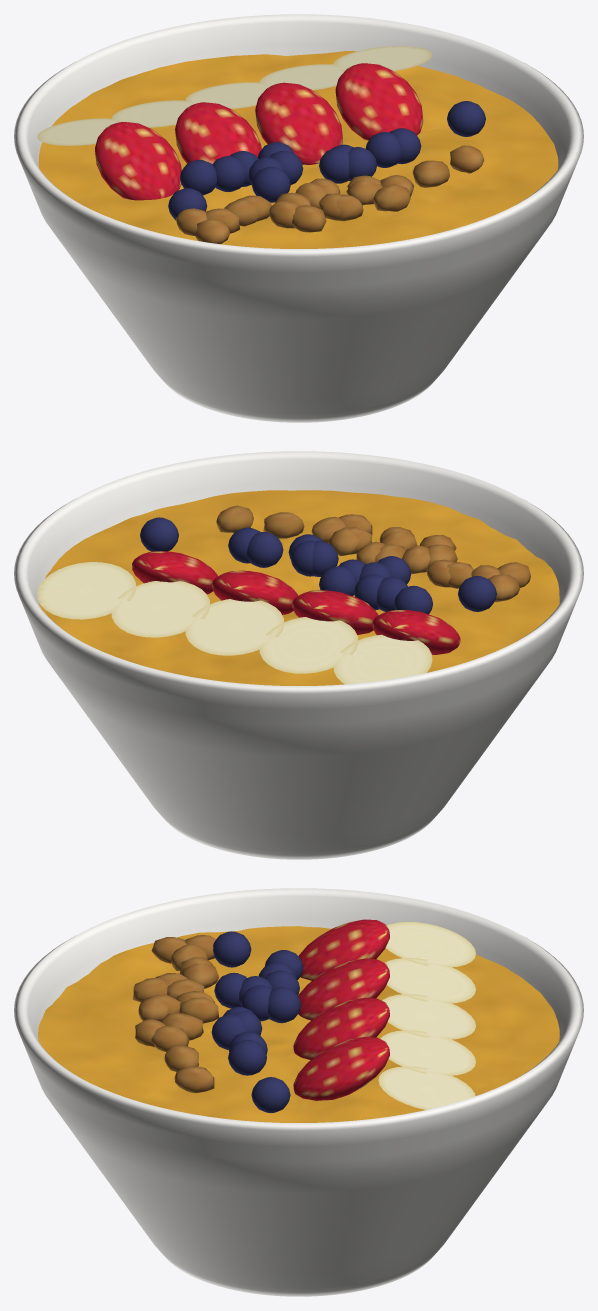
Rendered from mango-passion-bowl.glb.
3 renders of one model, top to bottom at view 1: azimuth 30°, elevation 25°; view 2: azimuth 150°, elevation 25°; view 3: azimuth 270°, elevation 25°, orthographic.
Parts seen in each view (by area): view 1: ceramic, satin, gloss, matte; view 2: ceramic, satin, gloss, matte; view 3: ceramic, satin, gloss, matte.
Boxes of the visible parts, x1,y1,x2,y2 form: ceramic: [14, 14, 583, 422]; satin: [37, 46, 558, 248]; gloss: [95, 63, 423, 200]; matte: [176, 145, 484, 243]; ceramic: [14, 451, 583, 859]; satin: [37, 490, 559, 685]; gloss: [132, 551, 460, 654]; matte: [216, 505, 530, 602]; ceramic: [14, 888, 583, 1296]; satin: [38, 922, 559, 1122]; gloss: [293, 919, 389, 1100]; matte: [132, 935, 219, 1093].
Bounding box in the file's own units: 0.16 × 0.0756 × 0.16.
Materials: 4 (4 with a texture image).
